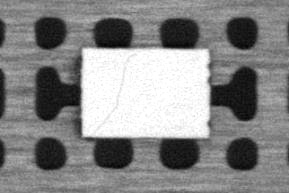DIE_CRACK: (90, 53, 132, 135)
